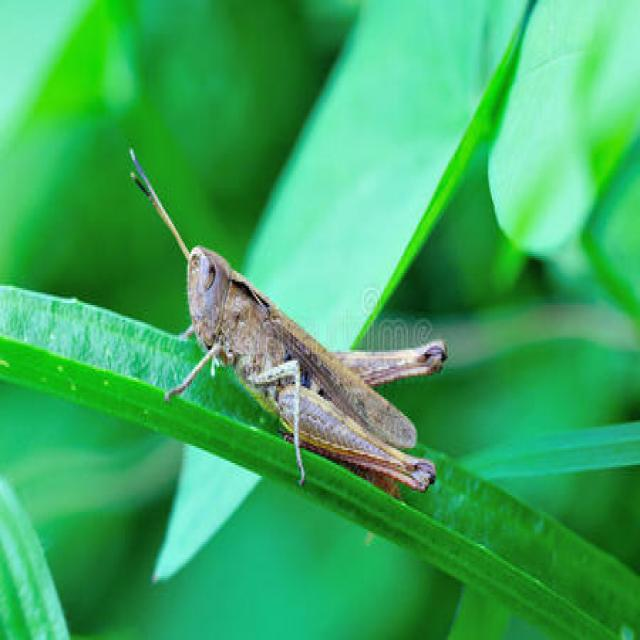ZhaMeng: (122, 158, 462, 508)
